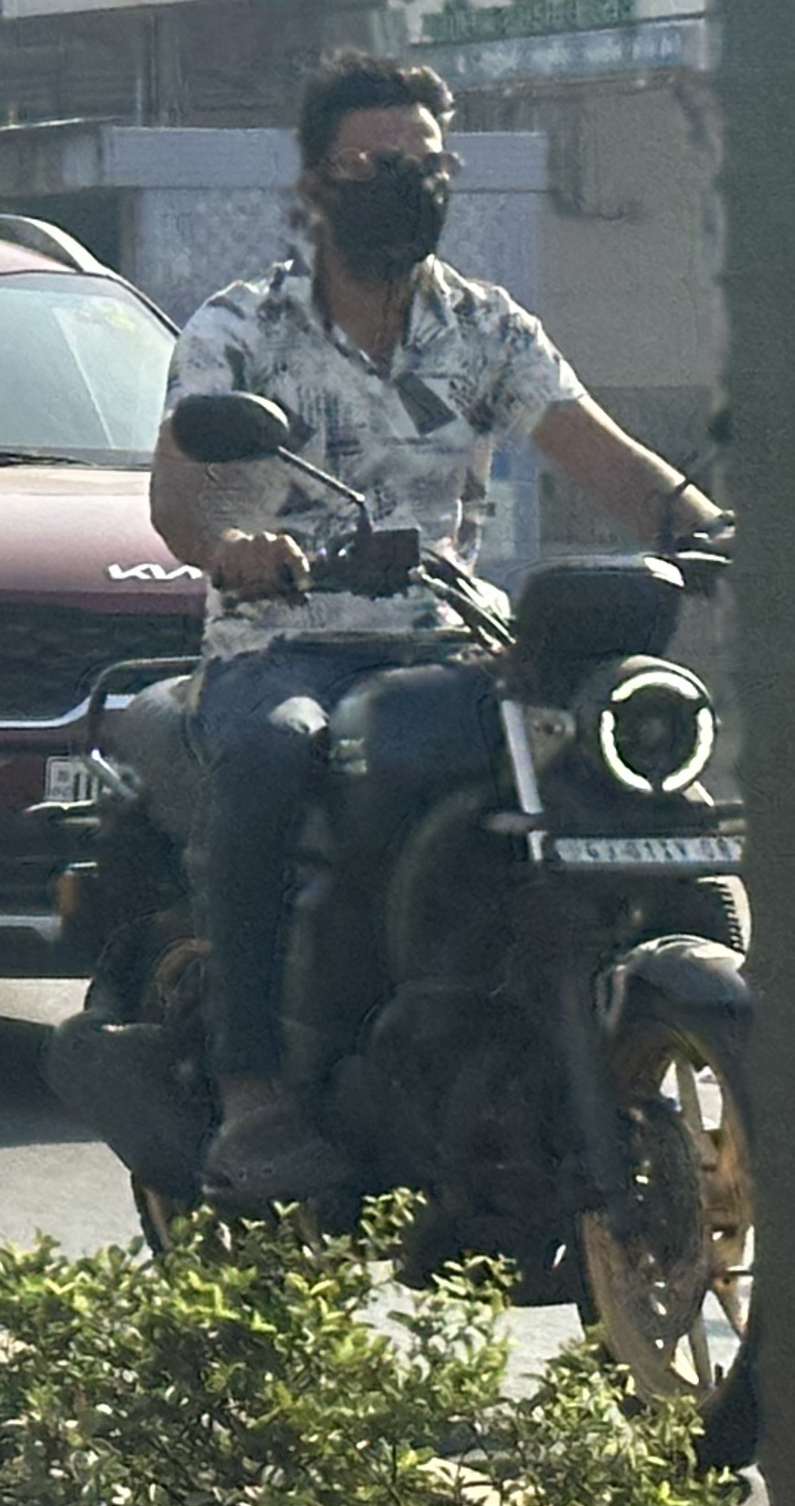BikeWithRider: (34, 37, 777, 1447)
NoHelmet: (267, 38, 477, 285)
